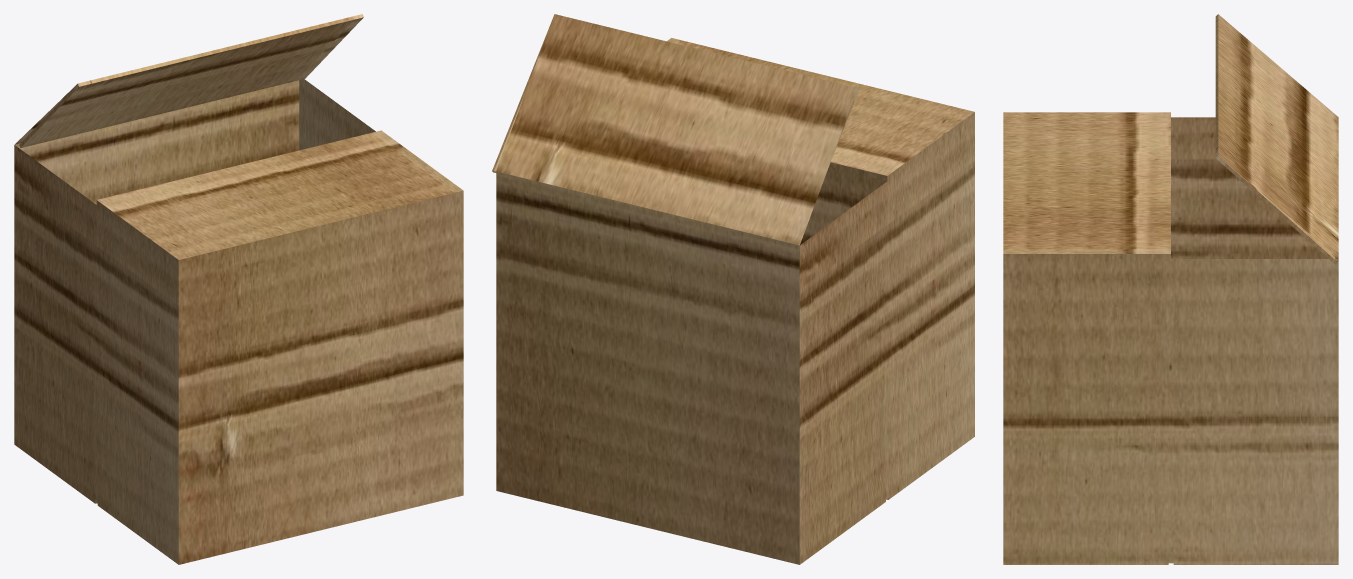
Rendered from aixinha.fbx.
The picture shows the model from 3 angles, left to right: view 1: azimuth 30°, elevation 25°; view 2: azimuth 150°, elevation 25°; view 3: azimuth 270°, elevation 25°; orthographic projection. The views are drawn at different scales.
Parts seen in each view (by area): view 1: Cube; view 2: Cube; view 3: Cube.
Boxes of the visible parts, left/top/right/bottom form: Cube: left=14, top=14, right=463, bottom=564; Cube: left=492, top=14, right=974, bottom=564; Cube: left=1003, top=14, right=1338, bottom=564.
Size of the model in its own units: 203 by 271 by 200.
Materials: 1 (1 with a texture image).
